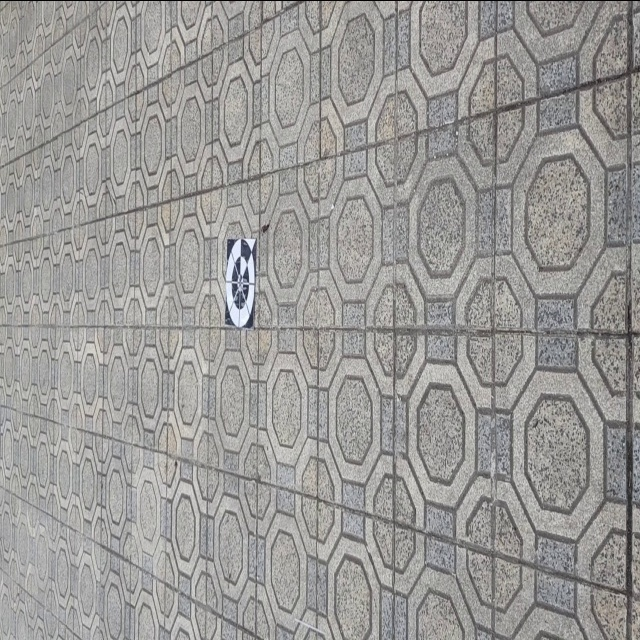landing-zone: (221, 231, 265, 329)
